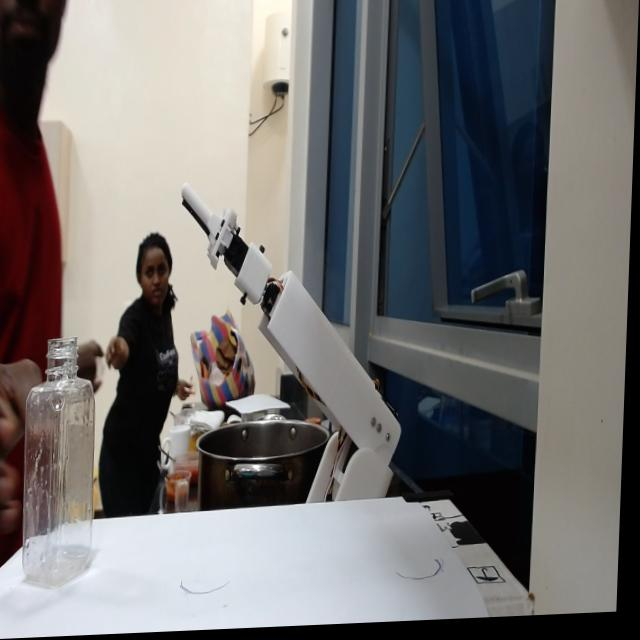cooking_pot: (199, 424, 333, 512)
